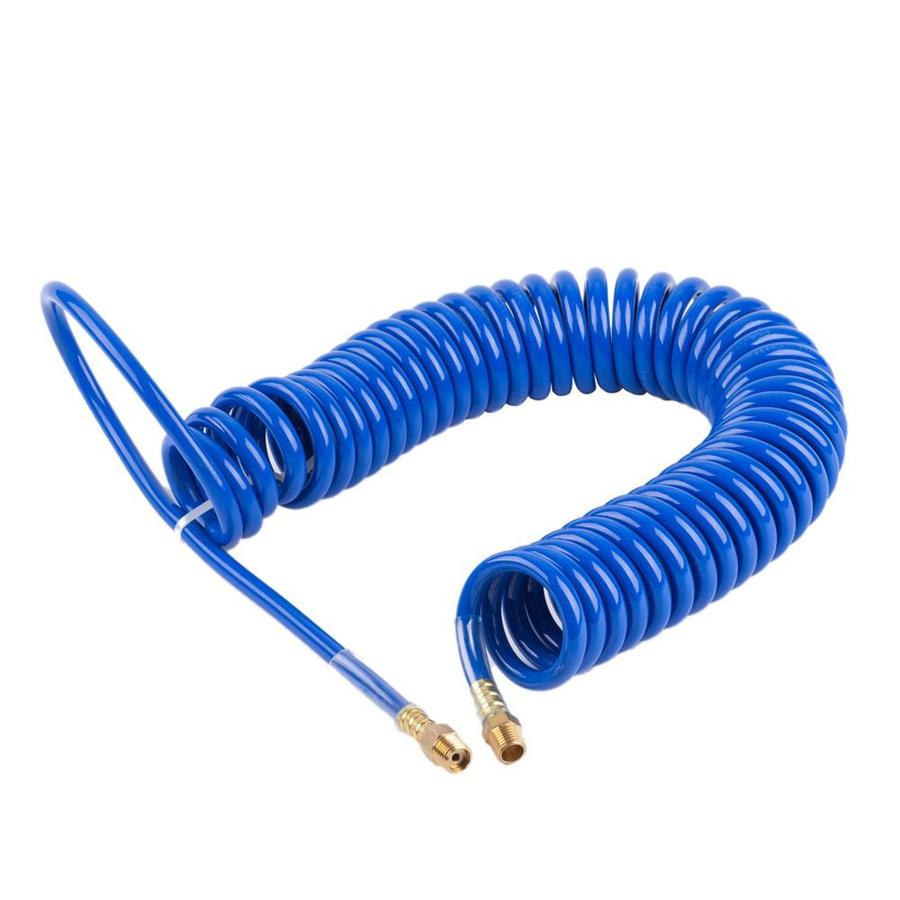Nonrec_Tangler: (26, 256, 859, 796)
